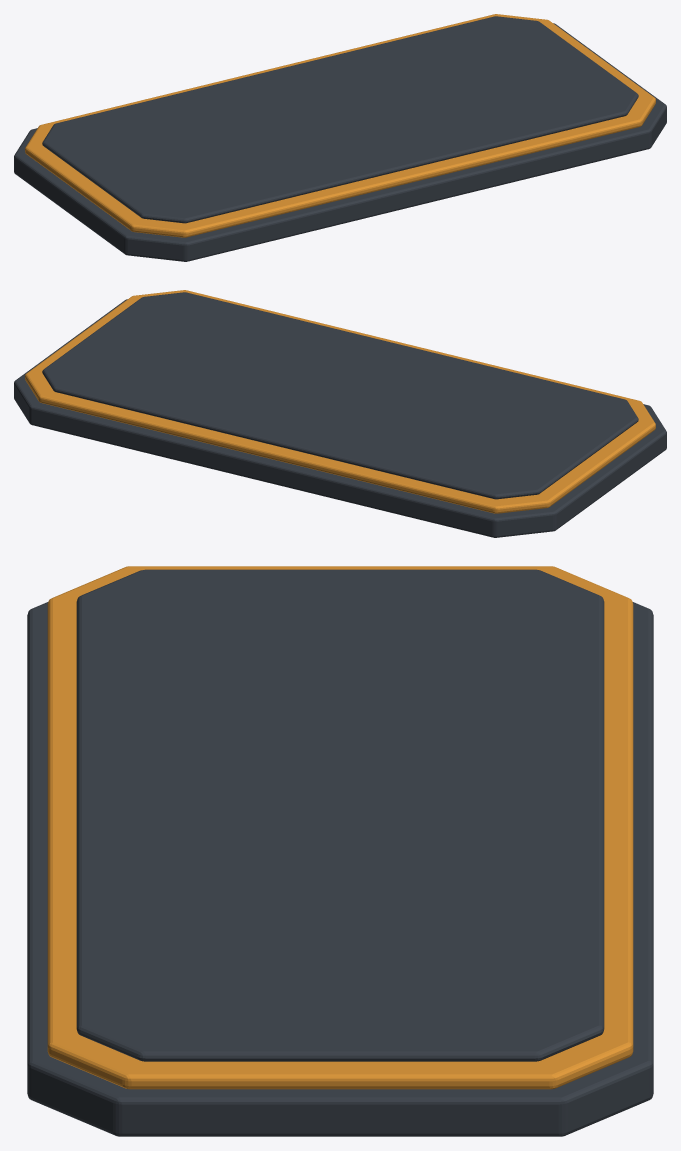
File: SM_RobotCenter_Base.fbx
3 renders of one model, top to bottom at view 1: azimuth 30°, elevation 25°; view 2: azimuth 150°, elevation 25°; view 3: azimuth 270°, elevation 25°, orthographic. The views are drawn at different scales.
Visible parts, largest first — view 1: SM_RobotCenter_Base.001; view 2: SM_RobotCenter_Base.001; view 3: SM_RobotCenter_Base.001.
Boxes of the visible parts, bbox=[...] form: SM_RobotCenter_Base.001: bbox=[14, 14, 666, 261]; SM_RobotCenter_Base.001: bbox=[14, 290, 666, 537]; SM_RobotCenter_Base.001: bbox=[27, 566, 653, 1136].
Size of the model in its own units: 700 by 1400 by 78.
